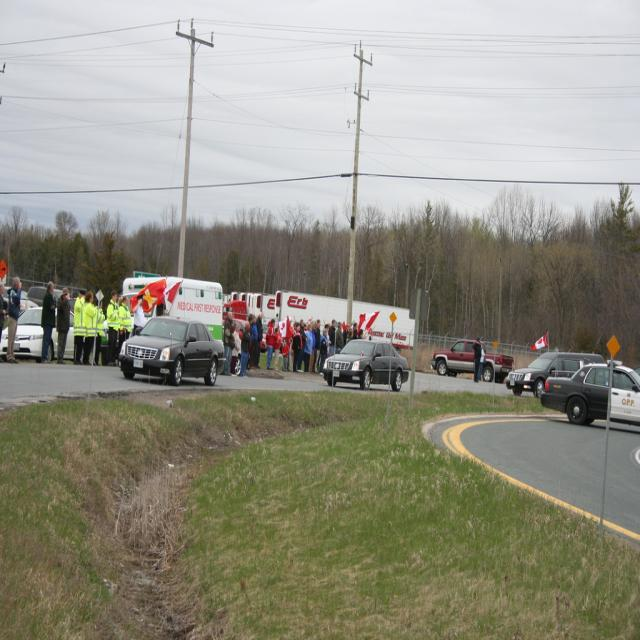car: (116, 312, 227, 383)
